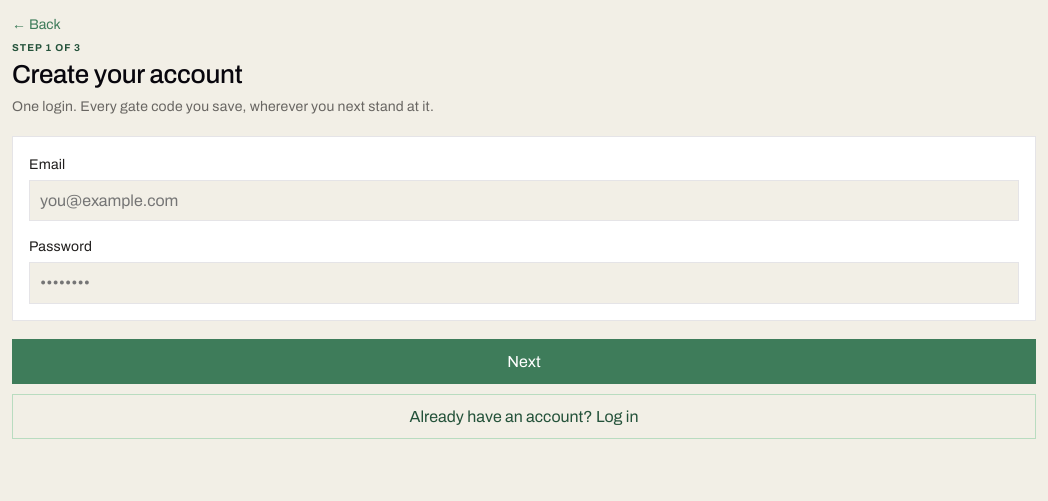
Test case: AuthPanel › rejects a short password on register before hitting the network
In the field labelled "Email": (524, 201) [29,180,1019,221], type "new@example.com"
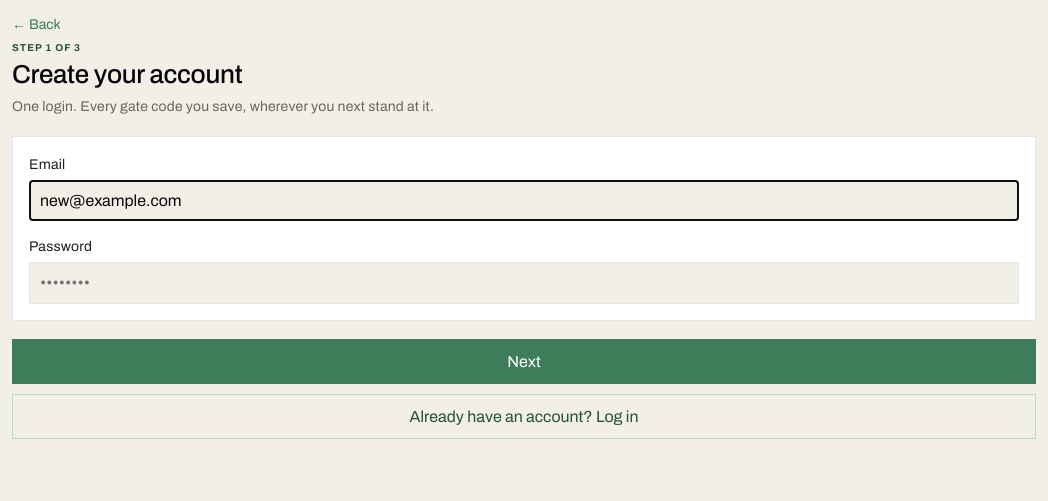
In the password field labelled "Password": (524, 283) [29,262,1019,304], type "short"
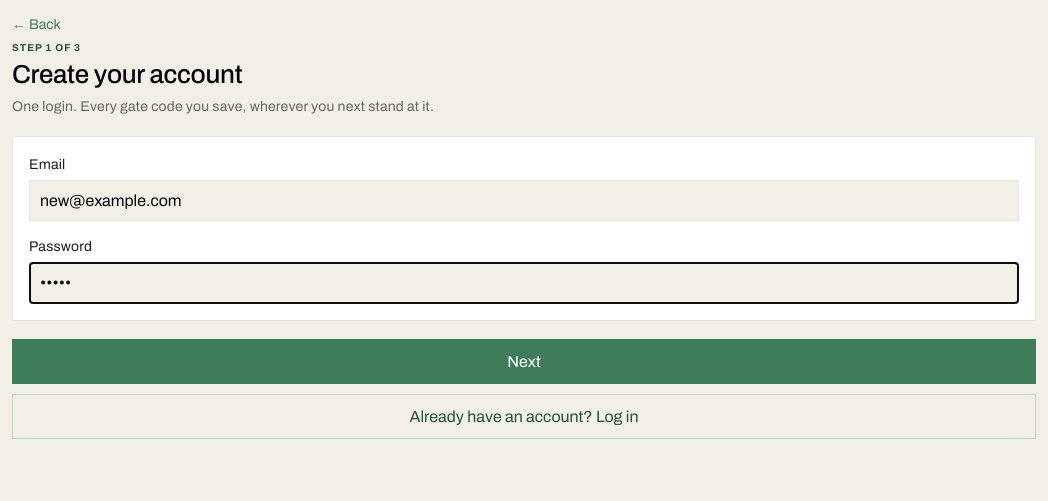
Click the button "Next": (524, 361) [12,339,1036,384]
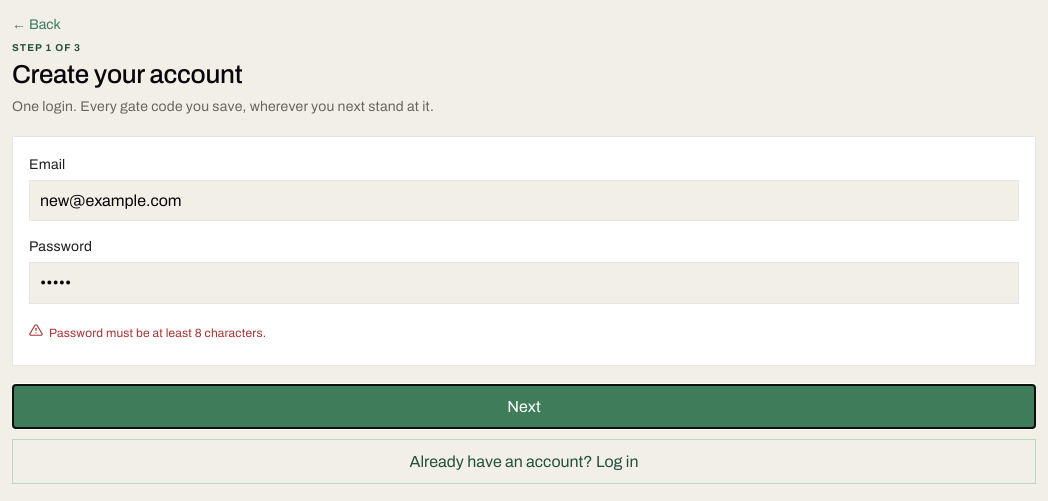
Expected: the message reads "Password must be at least 8 characters.", [49,326,266,340]
